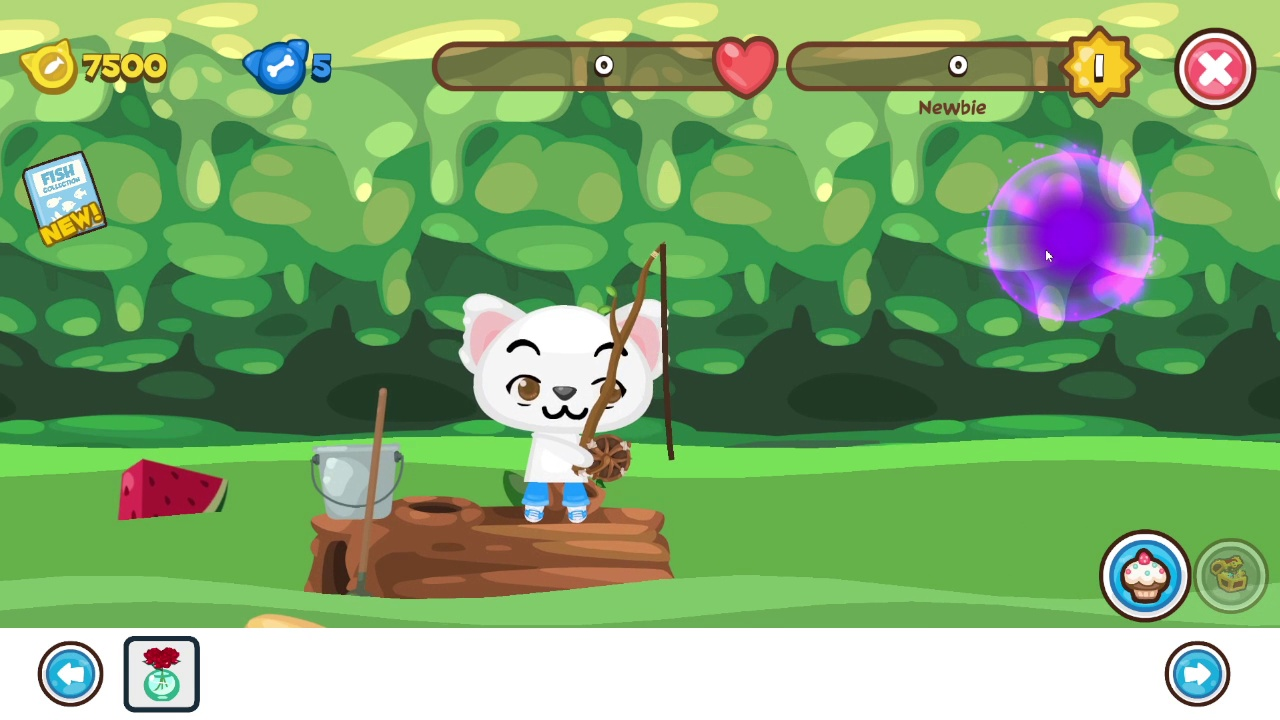point: (986, 151, 1157, 317)
